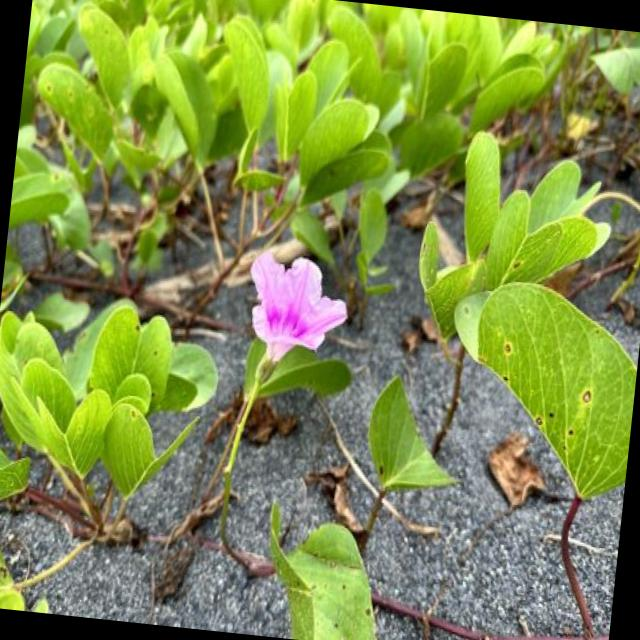ipomoea: (238, 245, 358, 376)
